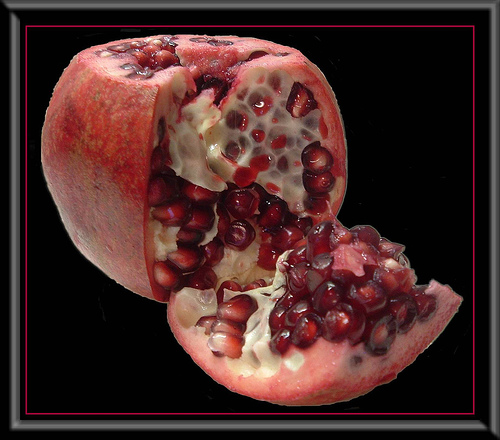pomogranate: (41, 31, 350, 304), (165, 214, 464, 408), (321, 308, 354, 341)
